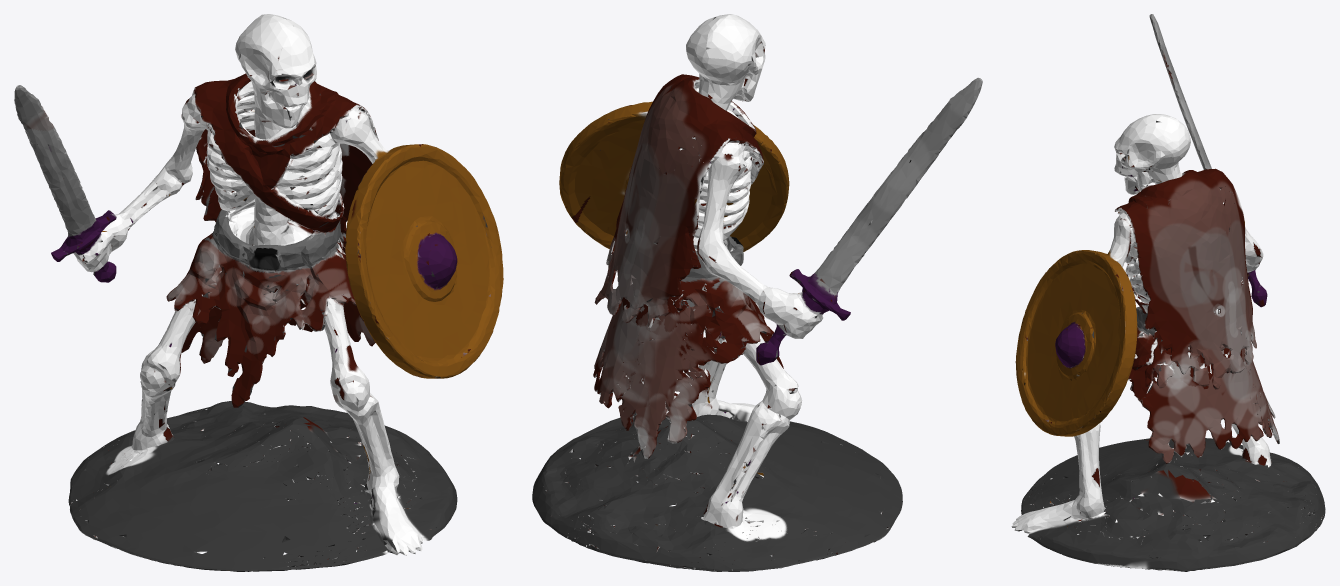
File: esqueleto_humano_pintado.glb
3 views of the same model, side by side, from view 1: azimuth 30°, elevation 25°; view 2: azimuth 150°, elevation 25°; view 3: azimuth 270°, elevation 25° (orthographic). The views are drawn at different scales.
Visible parts, largest first — view 1: tmpqn8_akp3.ply; view 2: tmpqn8_akp3.ply; view 3: tmpqn8_akp3.ply.
Boxes of the visible parts, x1,y1,x2,y2 form: tmpqn8_akp3.ply: (14, 14, 503, 571); tmpqn8_akp3.ply: (532, 14, 982, 571); tmpqn8_akp3.ply: (1011, 14, 1325, 571).
Size of the model in its own units: 1.95 by 1.96 by 1.42.
1 material, 1 textured.
